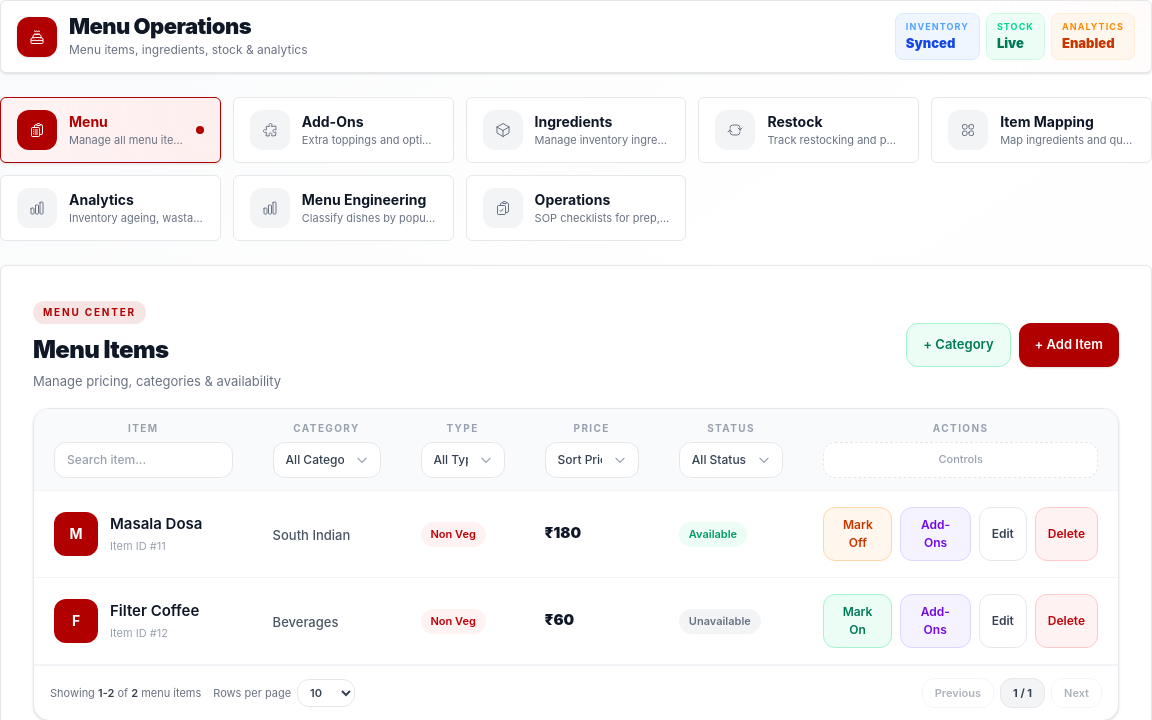
Test: Menu Management — characterisation › renders the addons tab's own content
The image size is (1152, 720).
Check: the heading "Menu Operations" is shown, box [69, 12, 251, 38]
Click the button "Add-Ons" at (343, 130), box [233, 97, 454, 163]
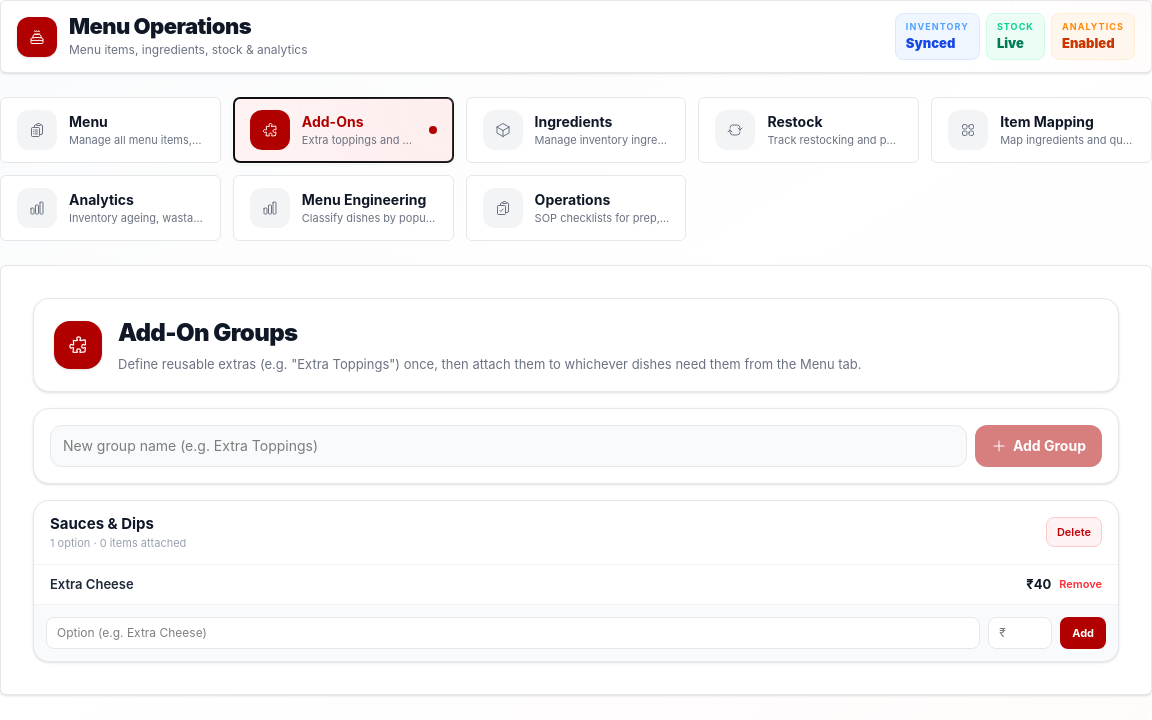
Check: the heading "Sauces & Dips" is shown, box [50, 514, 154, 532]
